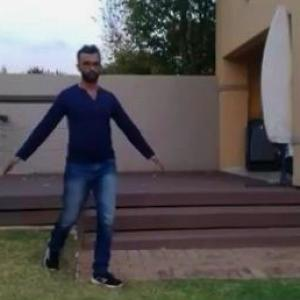land: (8, 42, 170, 288)
